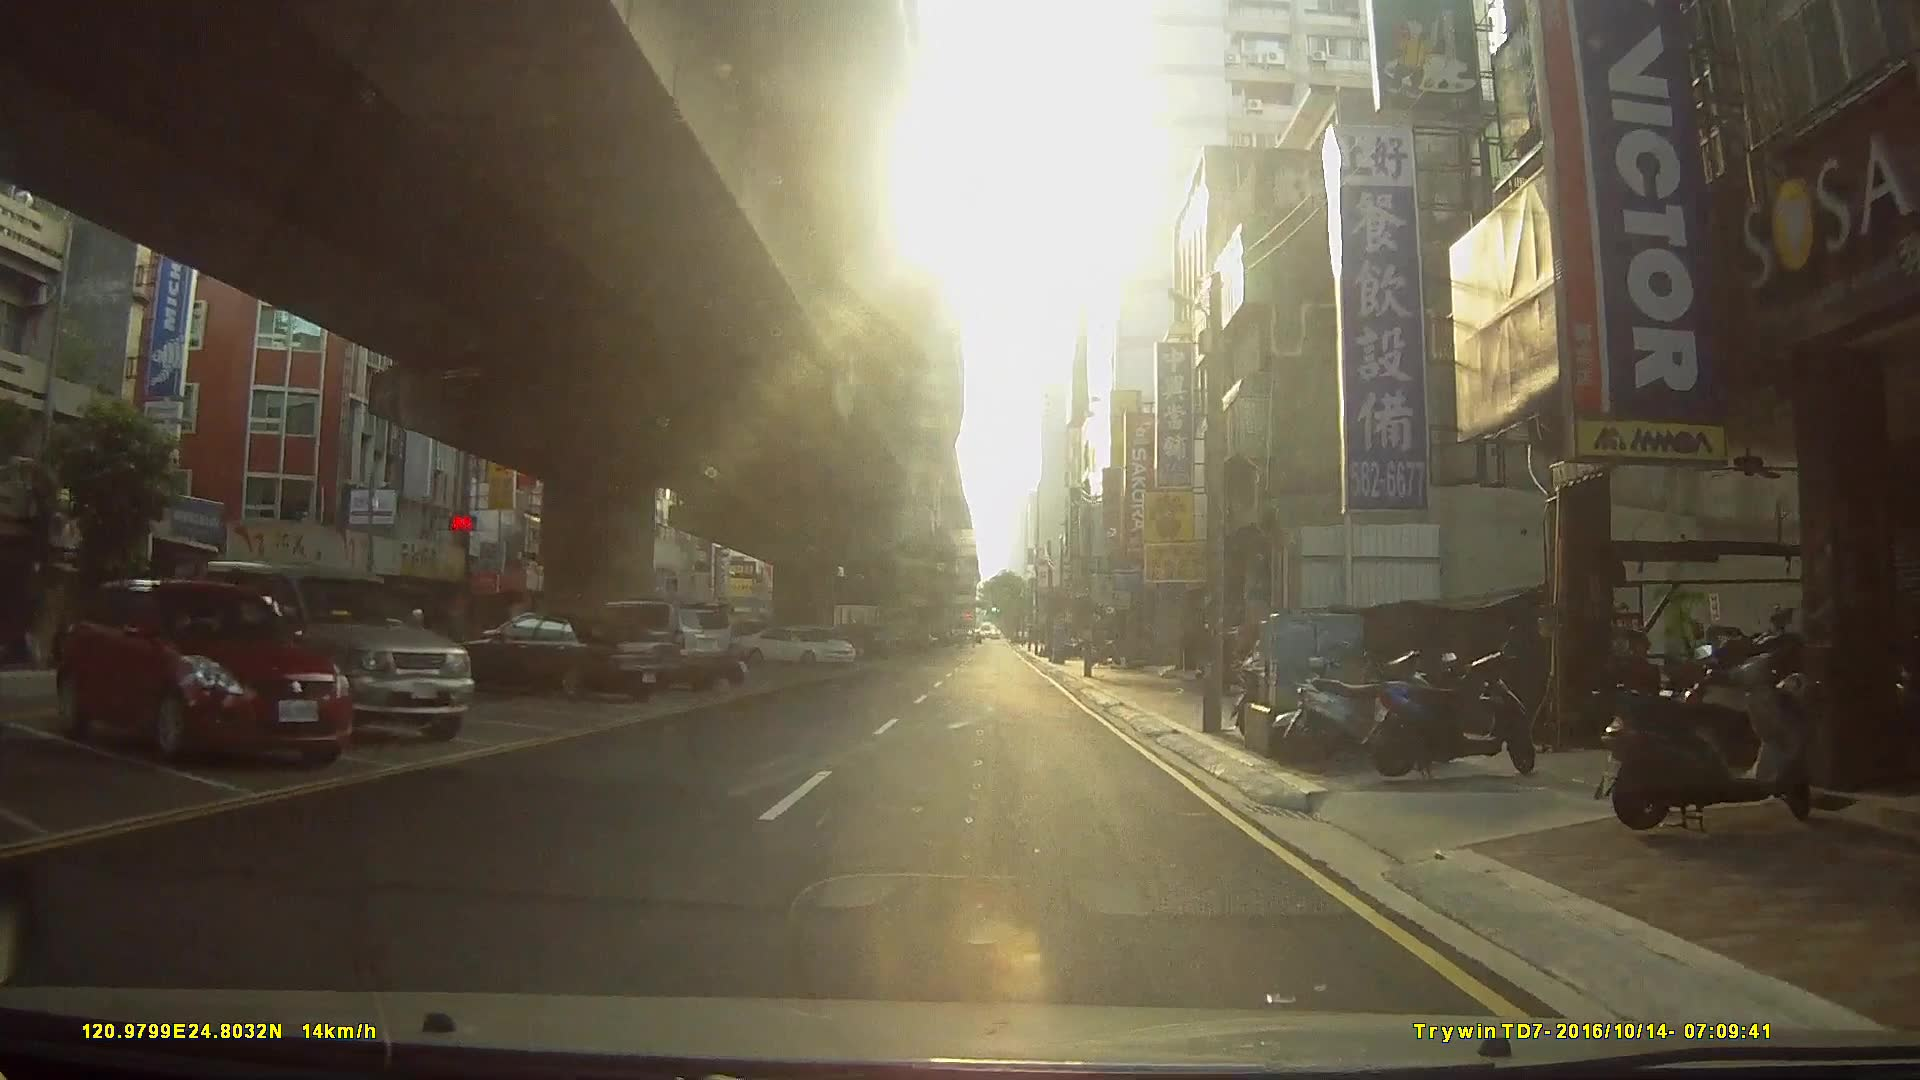vehicle: (53, 578, 351, 765), (194, 558, 475, 749), (463, 612, 682, 704), (568, 599, 735, 694), (737, 626, 858, 669)
